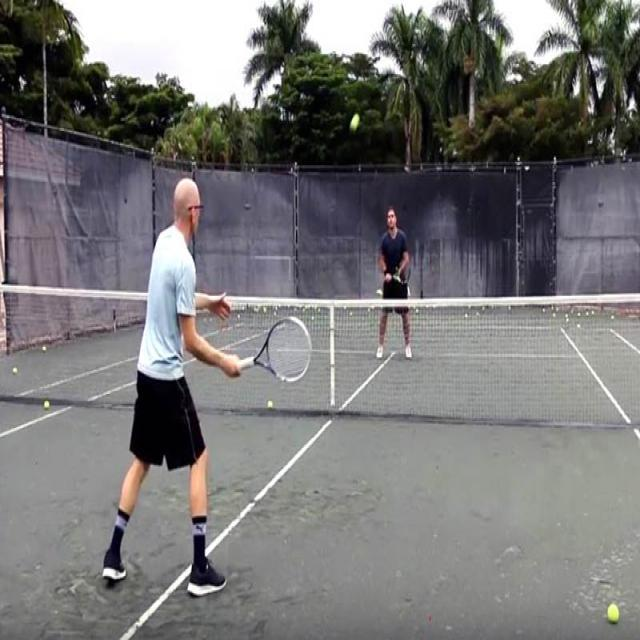net: (0, 274, 640, 435)
player: (100, 161, 312, 599)
